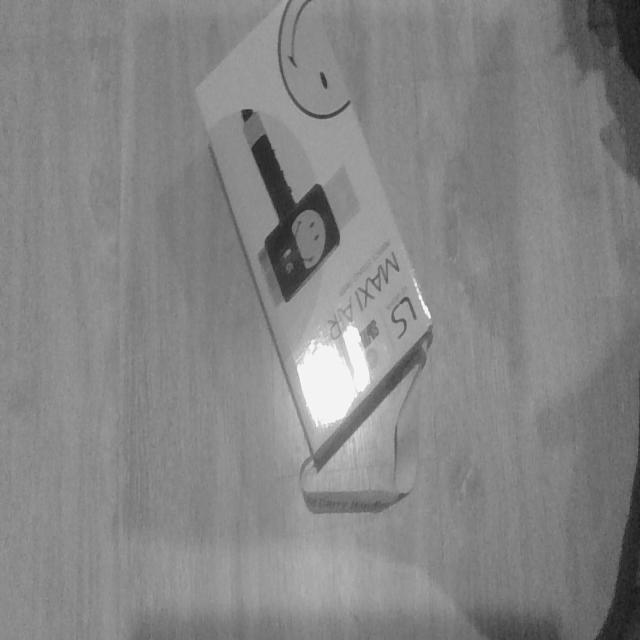Dryer: (193, 2, 434, 480)
